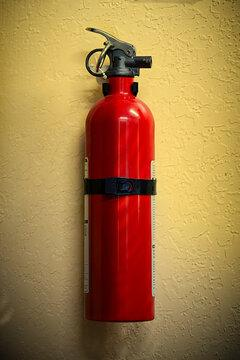wall-mounted: (46, 13, 196, 332)
